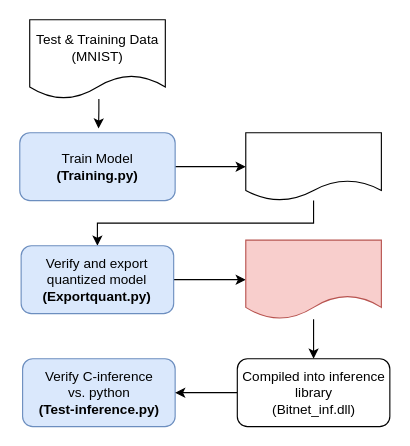
Image size: 410x446. Some labels were removed from this diagram. The centre of each missing label's shape, as x and y in pixels:
"Model weights Ansi-C include (...model.h)" belongs at point (313, 279).
"Trained Model Weights (pth)" belongs at point (313, 166).
